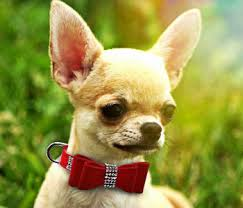chihuahua: (29, 1, 215, 208)
